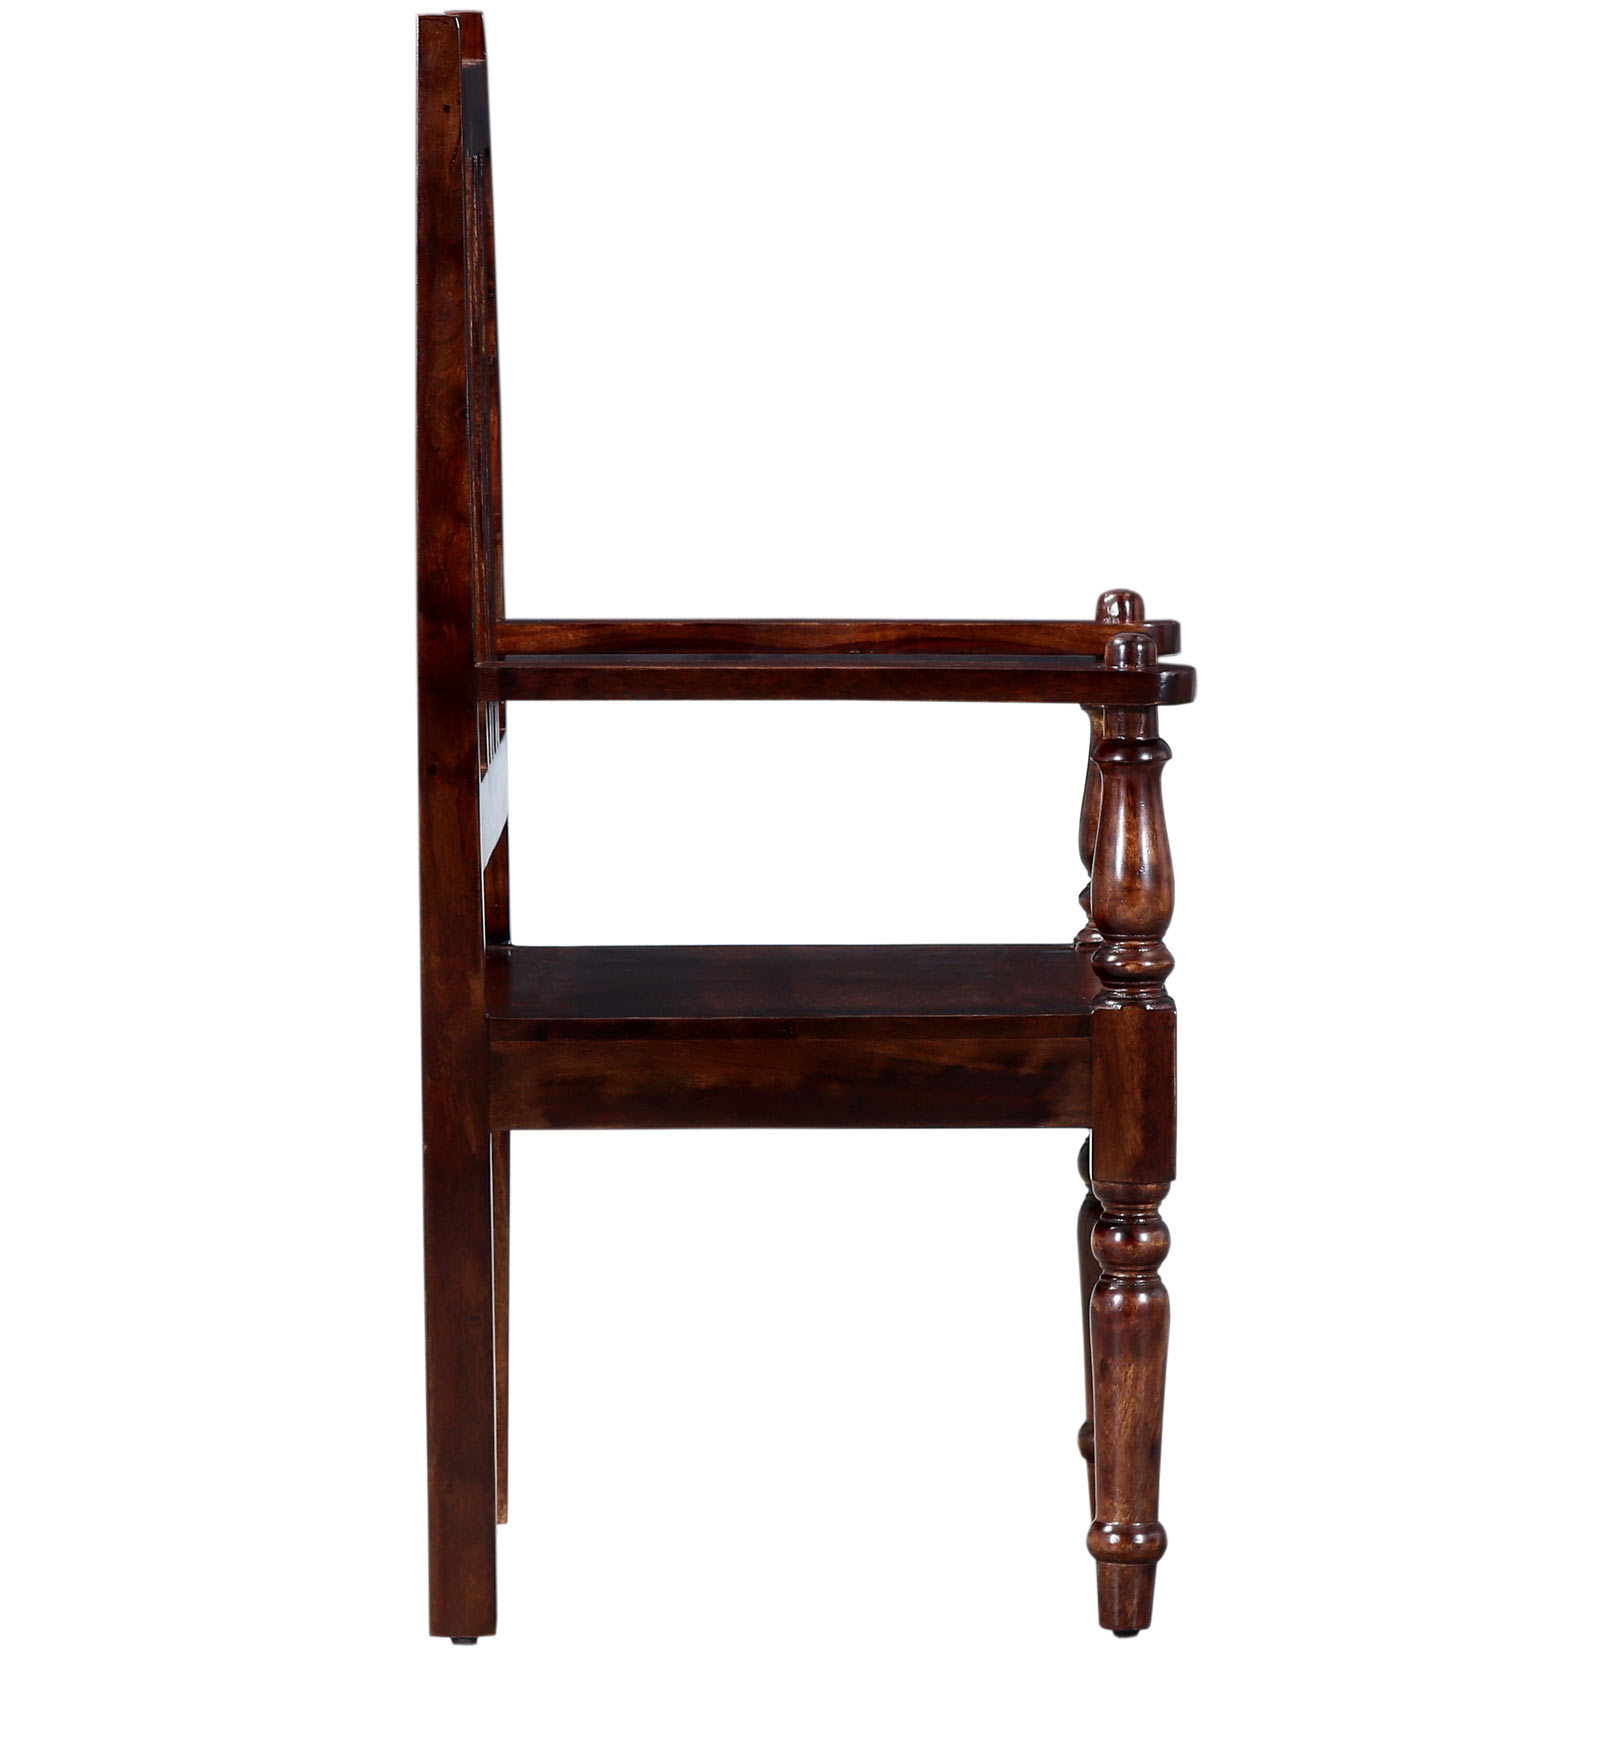Raylestone Arm Chair in Provincial Teak Finish by Amberville: (311, 8, 1267, 1671)
